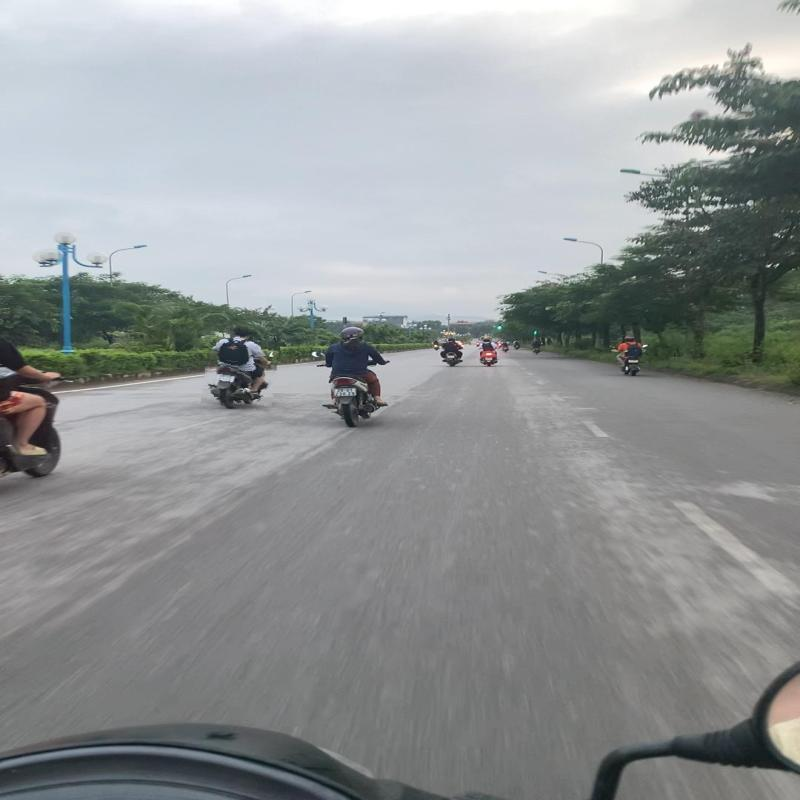motorcyclist: (204, 320, 280, 410)
nohelmet: (228, 324, 248, 338)
